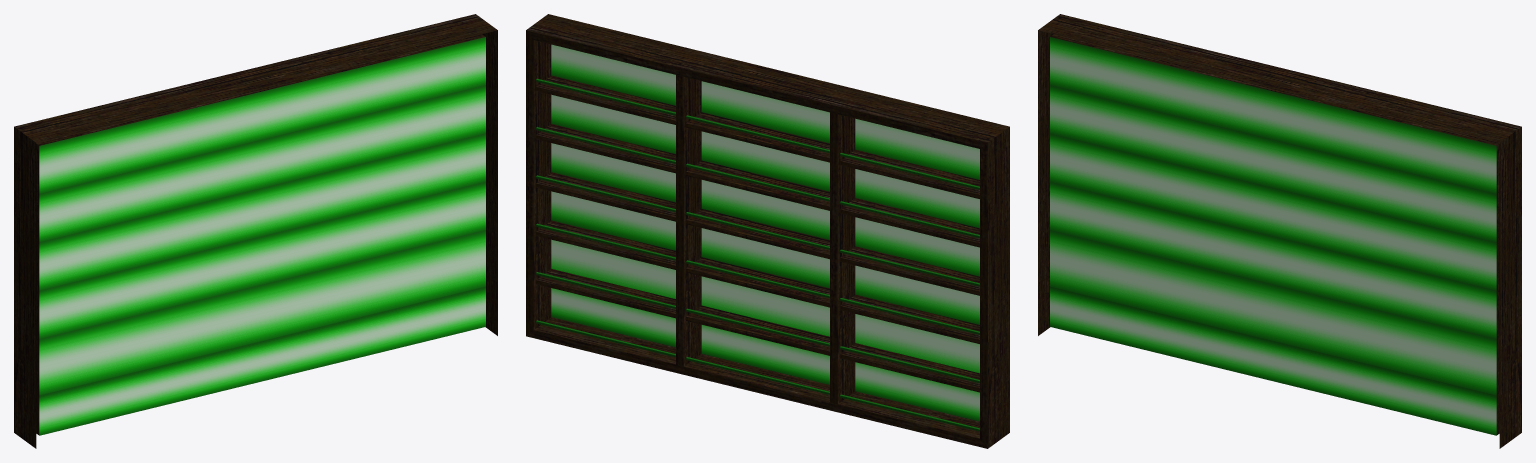
Rendered from niteclub_case.fbx.
3 renders of one model, left to right at view 1: azimuth 30°, elevation 25°; view 2: azimuth 150°, elevation 25°; view 3: azimuth 330°, elevation 25°, orthographic.
Parts seen in each view (by area): view 1: mesh_0; view 2: mesh_0; view 3: mesh_0.
Part boxes in pixels (box(x1,y1,x2,y2)): mesh_0: box(14, 14, 497, 448); mesh_0: box(526, 14, 1009, 448); mesh_0: box(1038, 14, 1521, 448).
Size of the model in its own units: 600 by 380 by 50.
1 material, 1 textured.
